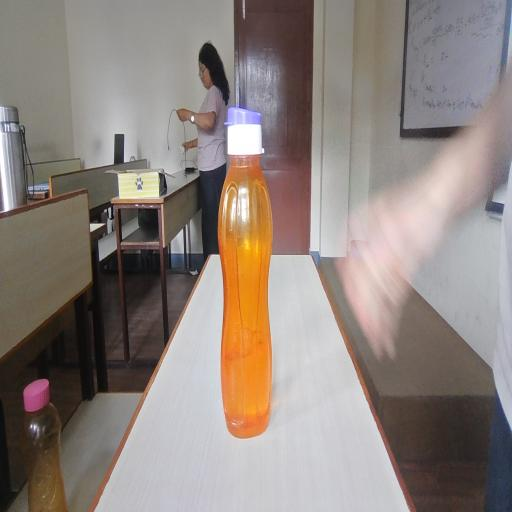Bottle: (206, 81, 293, 413), (19, 359, 85, 512)
